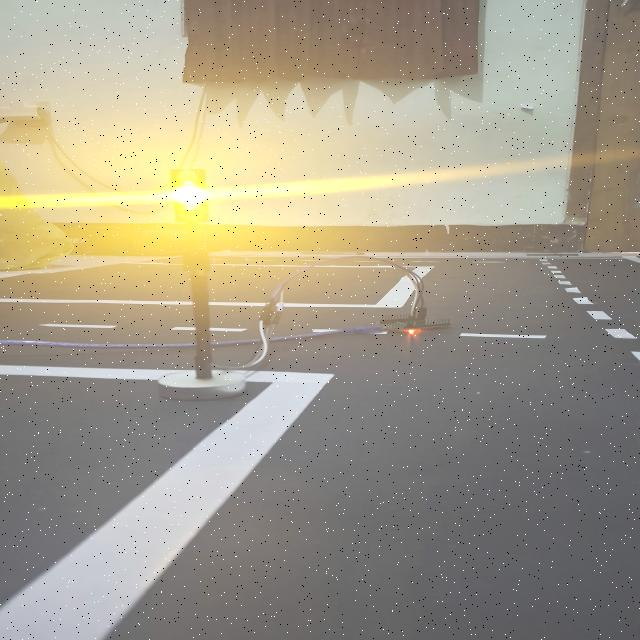Lampu Kuning: (167, 167, 213, 226)
